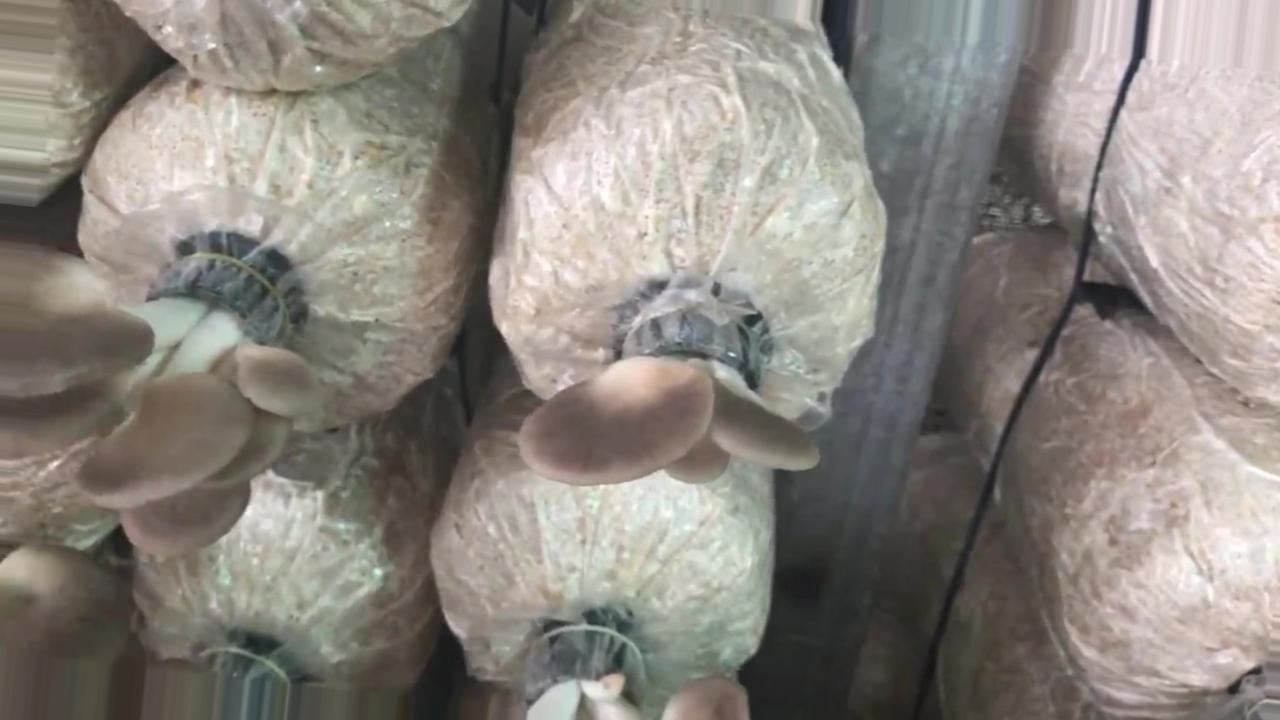nam: (1, 246, 317, 552), (517, 298, 820, 487)
